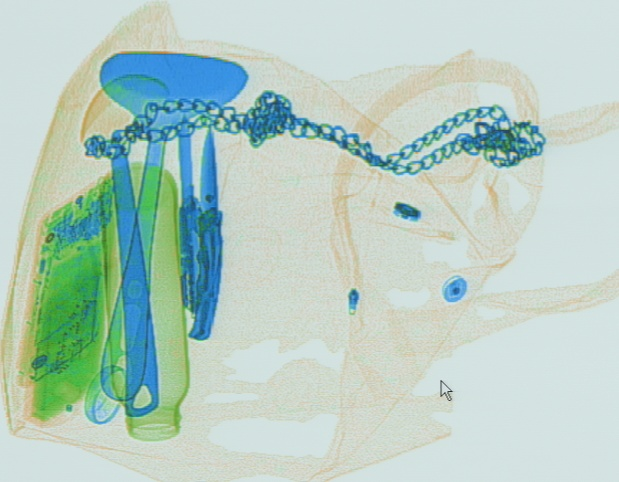knife: (187, 123, 225, 341), (175, 110, 206, 311)
